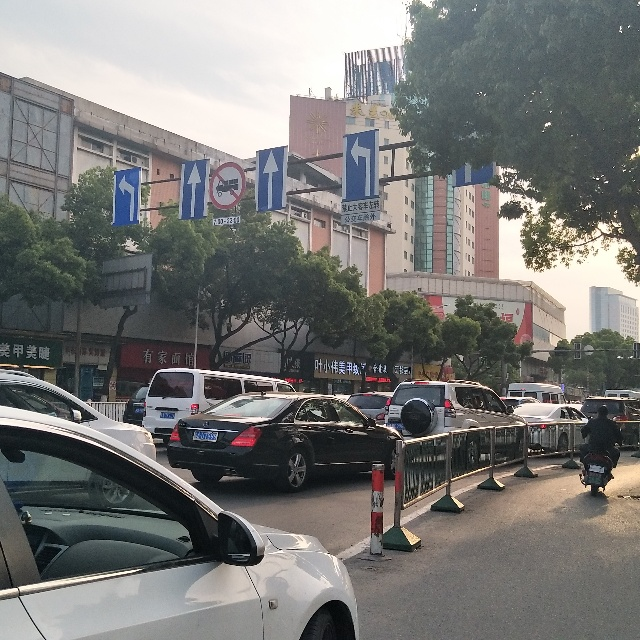left: (340, 131, 379, 201), (112, 168, 141, 224)
straight: (255, 146, 287, 213), (179, 159, 209, 219)
